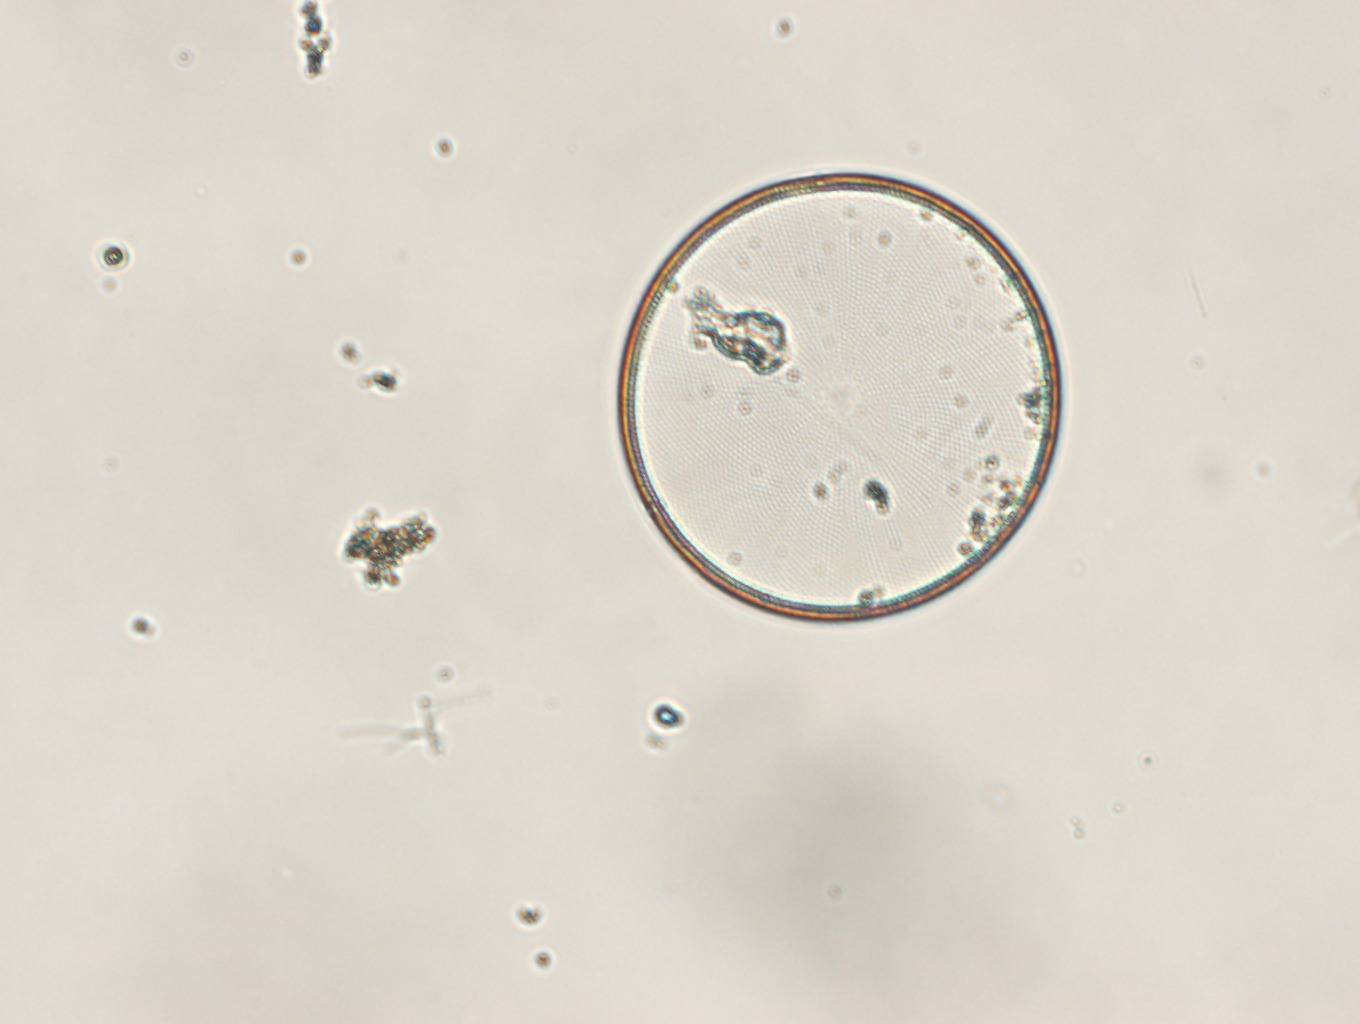coscinodiscus: (614, 169, 1064, 625)
